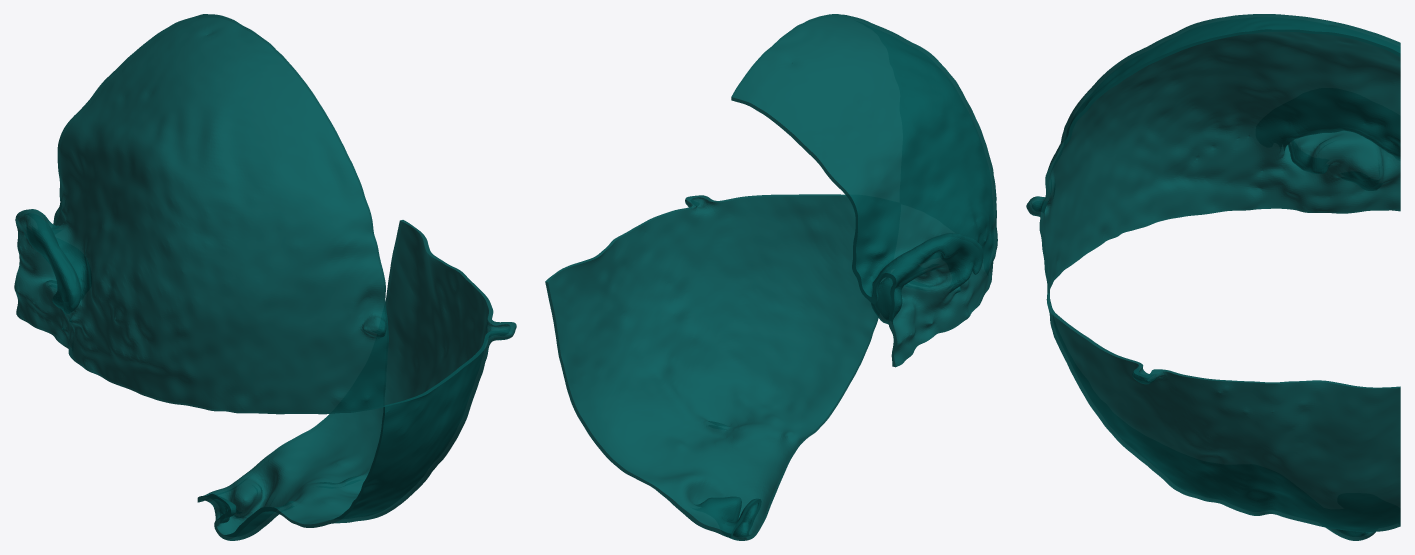
Rendered from Scalp_quadrants.obj.
3 renders of one model, left to right at view 1: azimuth 30°, elevation 25°; view 2: azimuth 150°, elevation 25°; view 3: azimuth 270°, elevation 25°, orthographic. The views are drawn at different scales.
Parts seen in each view (by area): view 1: grp1; view 2: grp1; view 3: grp1.
Boxes of the visible parts, x1,y1,x2,y2 form: grp1: (14, 14, 516, 540); grp1: (545, 14, 997, 540); grp1: (1026, 14, 1400, 540).
Bounding box in the file's own units: 182 × 226 × 152.
